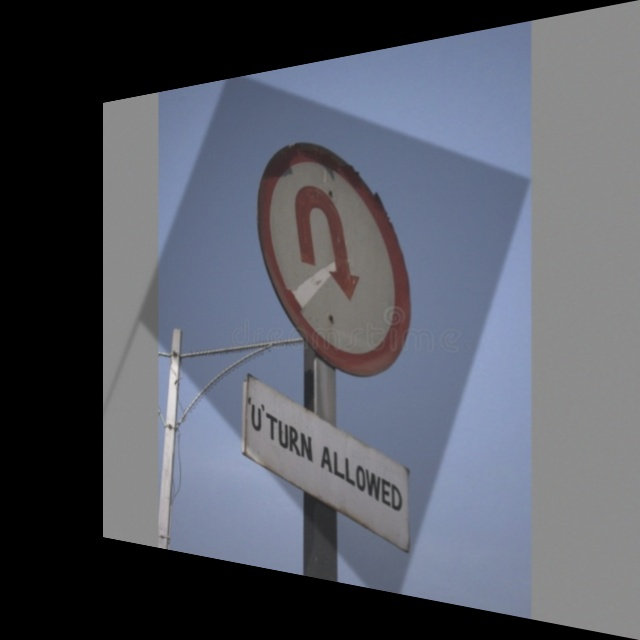U_Turn_Ahead: (259, 112, 431, 381)
